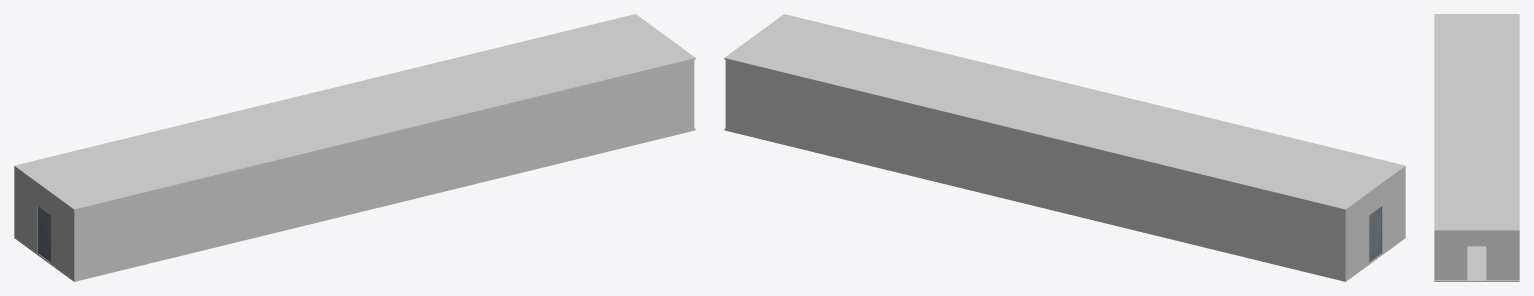
File: 크레딧.fbx
3 views of the same model, side by side, from view 1: azimuth 30°, elevation 25°; view 2: azimuth 150°, elevation 25°; view 3: azimuth 270°, elevation 25° (orthographic). The views are drawn at different scales.
Parts seen in each view (by area): view 1: Cube.002, Cube.003, Cube.001, Cube.018, 비상구문.001; view 2: Cube.002, Cube.003, Cube.001, Cube.018, 비상구문.001; view 3: Cube.003, Cube, Cube.018.
Boxes of the visible parts, x1,y1,x2,y2 form: Cube.002: (74, 59, 691, 280); Cube.003: (14, 14, 695, 210); Cube.001: (14, 167, 74, 279); Cube.018: (14, 128, 695, 281); 비상구문.001: (38, 207, 50, 261); Cube.002: (728, 59, 1345, 280); Cube.003: (724, 14, 1405, 210); Cube.001: (1345, 167, 1405, 279); Cube.018: (724, 128, 1405, 281); 비상구문.001: (1369, 207, 1381, 261); Cube.003: (1434, 14, 1519, 231); Cube: (1434, 231, 1519, 280); Cube.018: (1434, 246, 1519, 281).
Size of the model in its own units: 4762 by 530 by 797.
